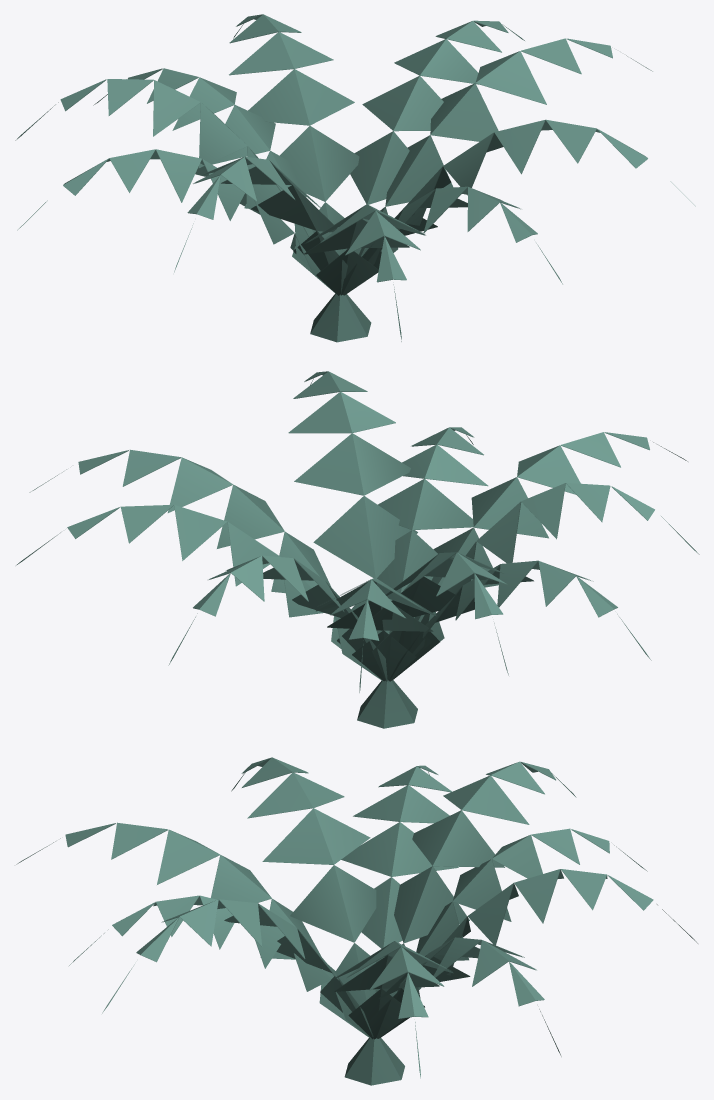
Rendered from fern_wide.glb.
The picture shows the model from 3 angles, top to bottom: view 1: azimuth 30°, elevation 25°; view 2: azimuth 150°, elevation 25°; view 3: azimuth 270°, elevation 25°; orthographic projection.
Bounding box in the file's own units: 1.75 × 0.6258 × 1.66.
